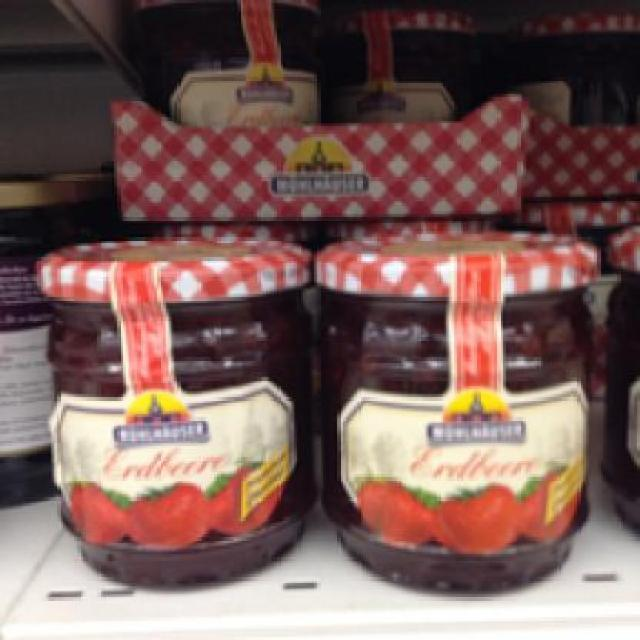Jam: (308, 226, 598, 594), (37, 232, 314, 588)
